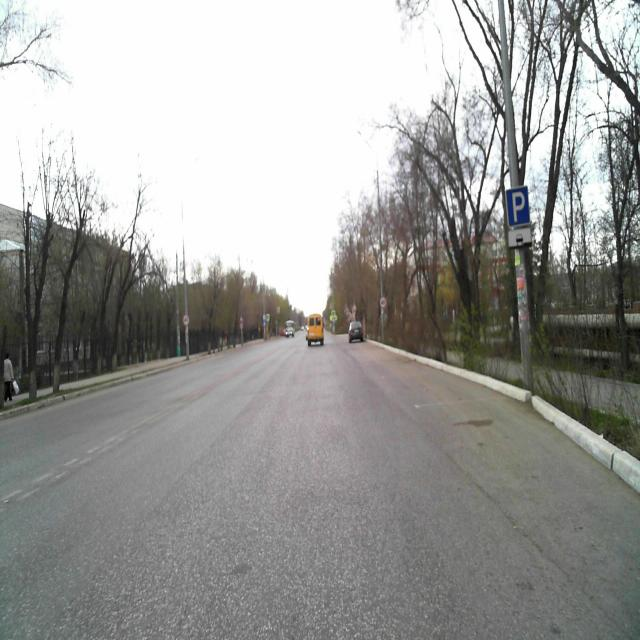road sign: (506, 187, 530, 225), (508, 226, 532, 248)
